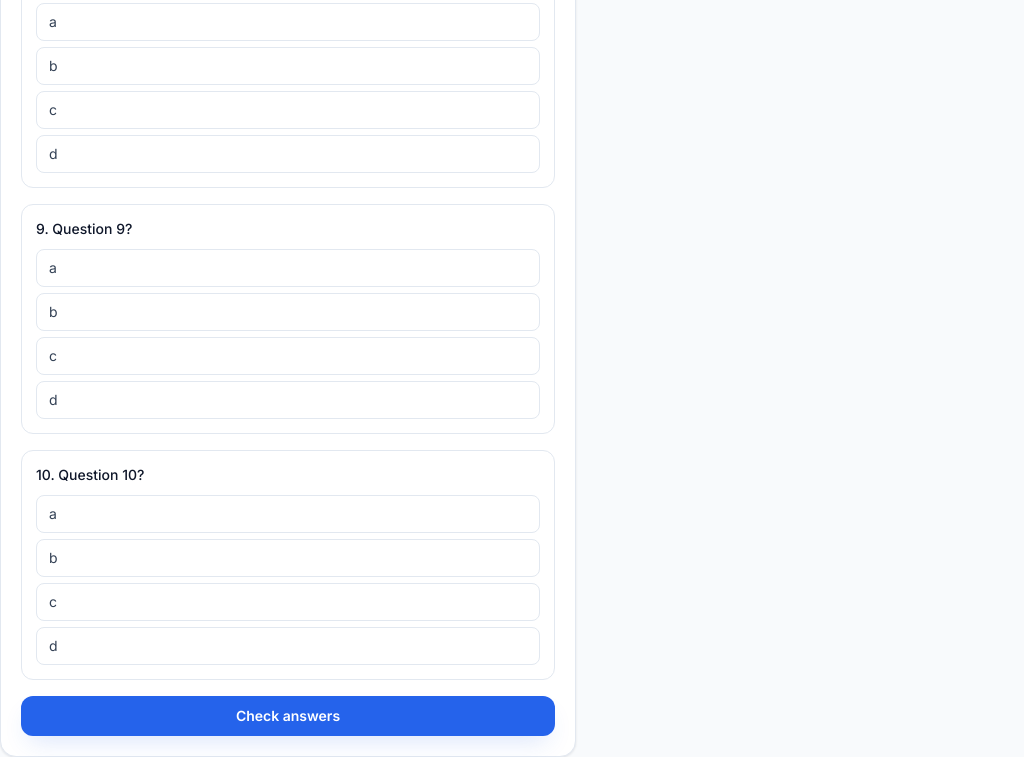
Test: QuizCard — results (filter + collapsed explanations) › a quiz over 20 items shows every rationale right away, with no extra clicks
(page scrolled)
What coordinates should you click on to do the following:
click the button "Check answers"
I would click on:
 (288, 716)
Its box is [21,696,555,736].
(page scrolled)
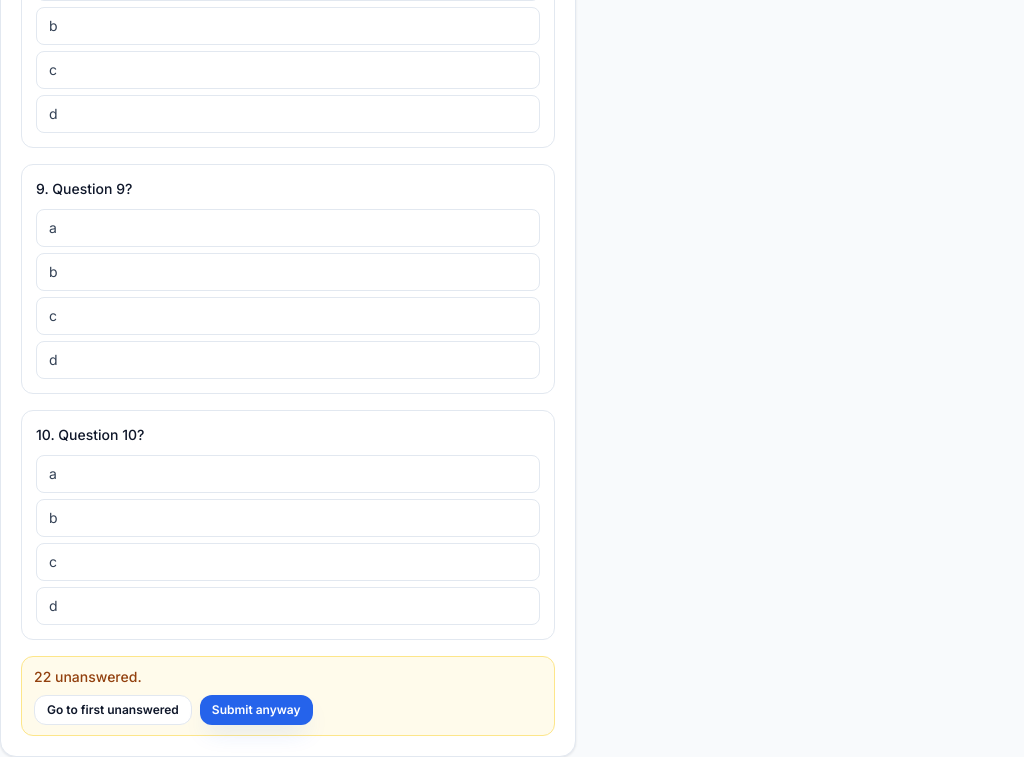
What coordinates should you click on to do the following:
click the button "Submit anyway"
I would click on:
 (256, 710)
Its box is [200,695,313,725].
(page scrolled)
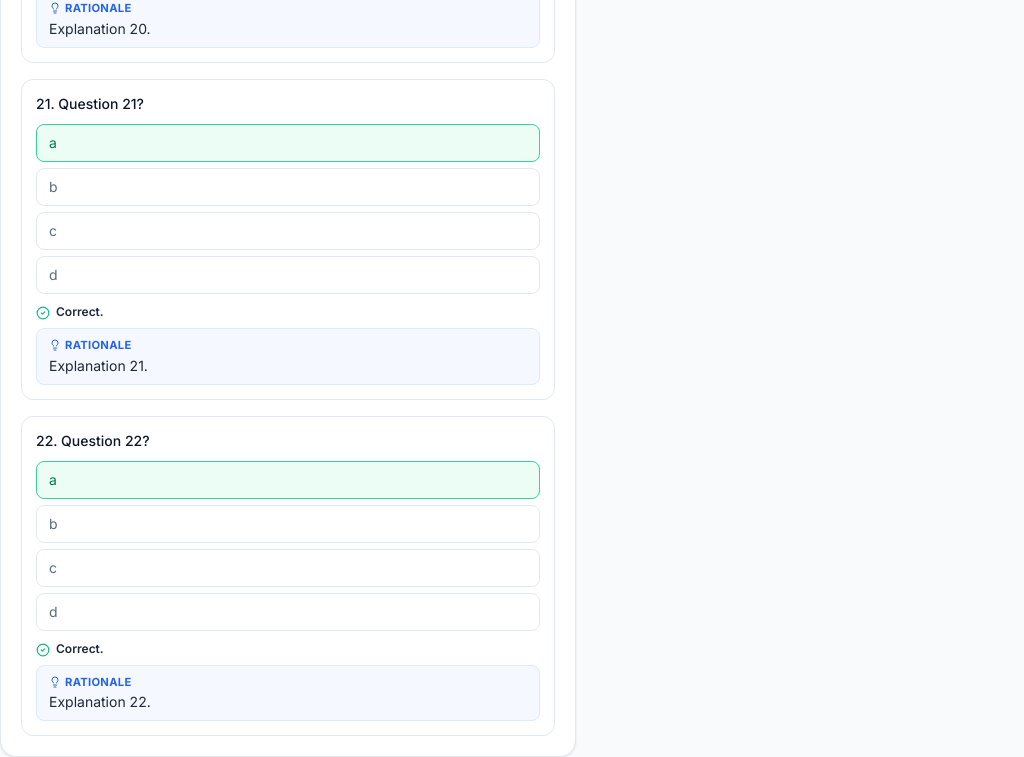
expect the text "Explanation 22." is shown: met, box [49,693,151,710]
